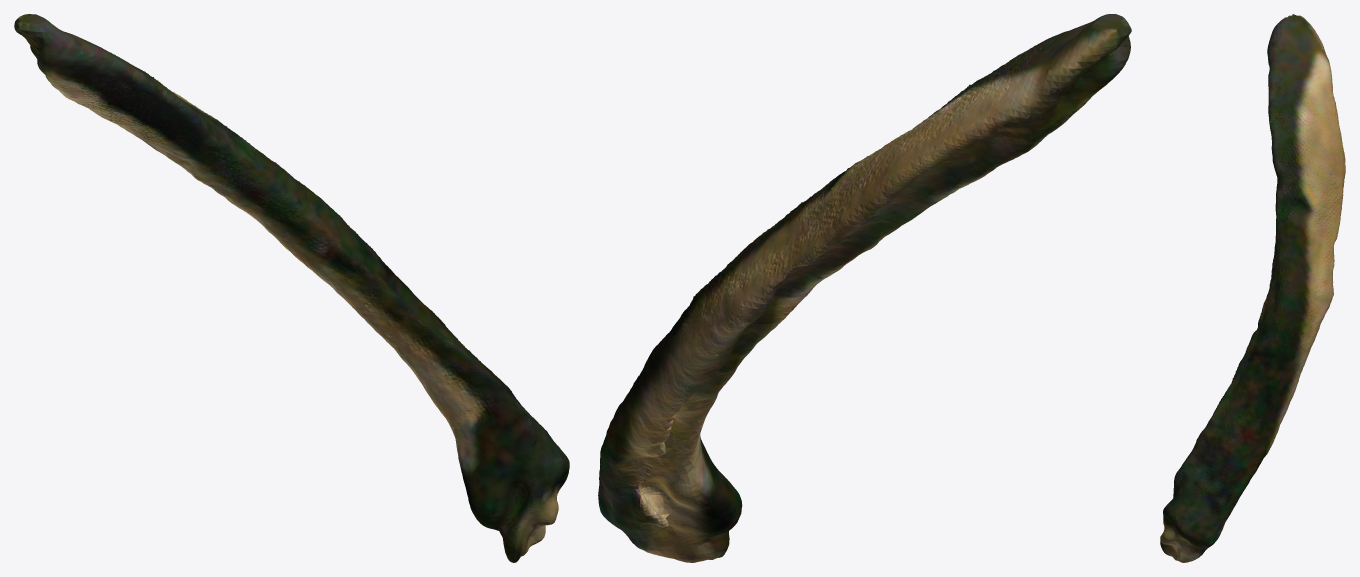
File: 8l_ribs.glb
The picture shows the model from 3 angles, left to right: view 1: azimuth 30°, elevation 25°; view 2: azimuth 150°, elevation 25°; view 3: azimuth 270°, elevation 25°; orthographic projection. The views are drawn at different scales.
Parts seen in each view (by area): view 1: Node; view 2: Node; view 3: Node.
Boxes of the visible parts, box(x1,y1,x2,y2) form: Node: box(14, 14, 569, 562); Node: box(598, 14, 1131, 562); Node: box(1160, 14, 1345, 562).
Bounding box in the file's own units: 23.19 × 26.95 × 11.26.
Materials: 1 (1 with a texture image).
